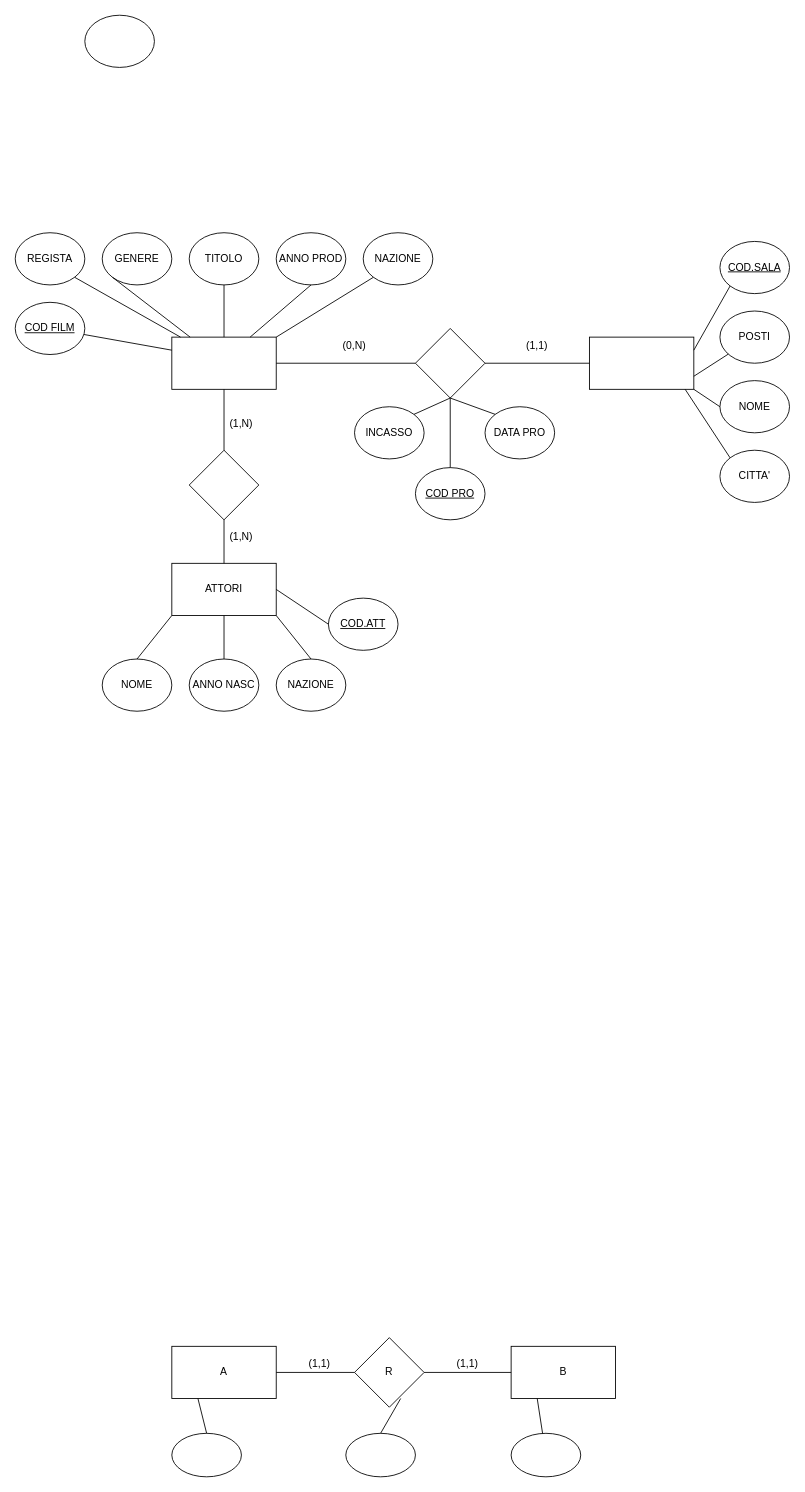
The diagram is 805 pixels wide and 1492 high, and some of its shapes have lost their labels. The centre of each missing label's shape, as x and y in pixels:
CA: point (206, 1454)
CB: point (545, 1454)
CR: point (380, 1454)
FILM: point (223, 362)
PROIEZ: point (450, 363)
RECITA: point (223, 484)
SALE: point (641, 362)
